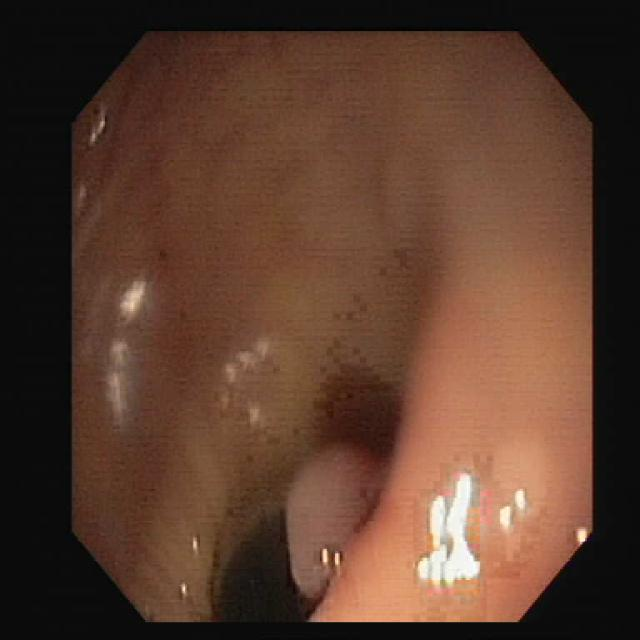tumor: (287, 440, 387, 616)
